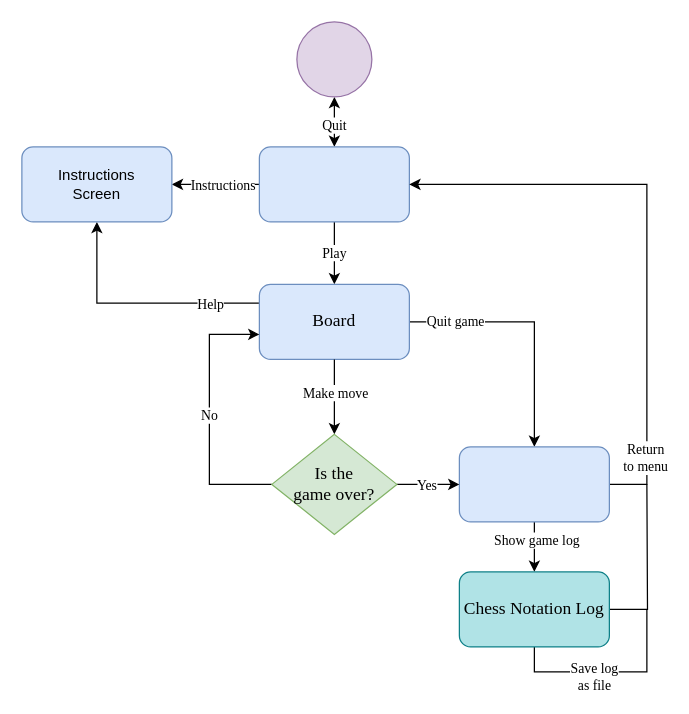
This 689x714 diagram has some shape labels left out. Here are the shapes that lost their labels. From the top down, the centre of each, then its label:
At (333,184): "Menu".
At (533,484): "End of Game Page".
